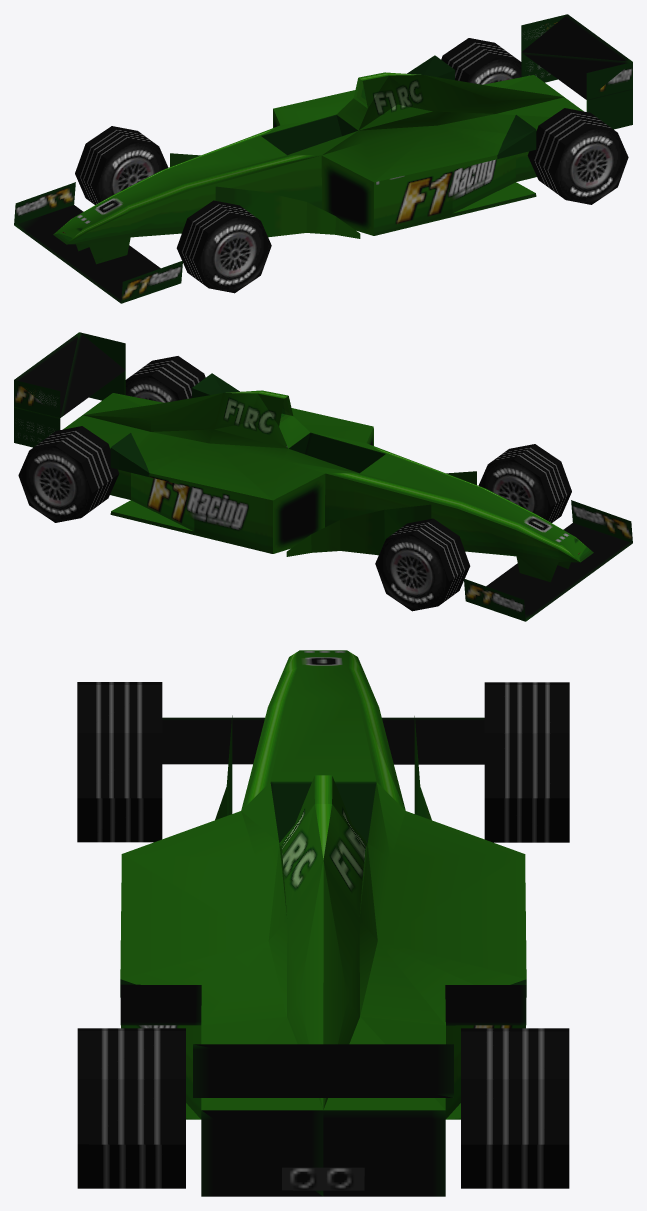
File: icon.ico.obj
The picture shows the model from 3 angles, top to bottom: view 1: azimuth 30°, elevation 25°; view 2: azimuth 150°, elevation 25°; view 3: azimuth 270°, elevation 25°; orthographic projection. The views are drawn at different scales.
Bounding box in the file's own units: 5.07 × 1.11 × 2.
Materials: 1 (1 with a texture image).
